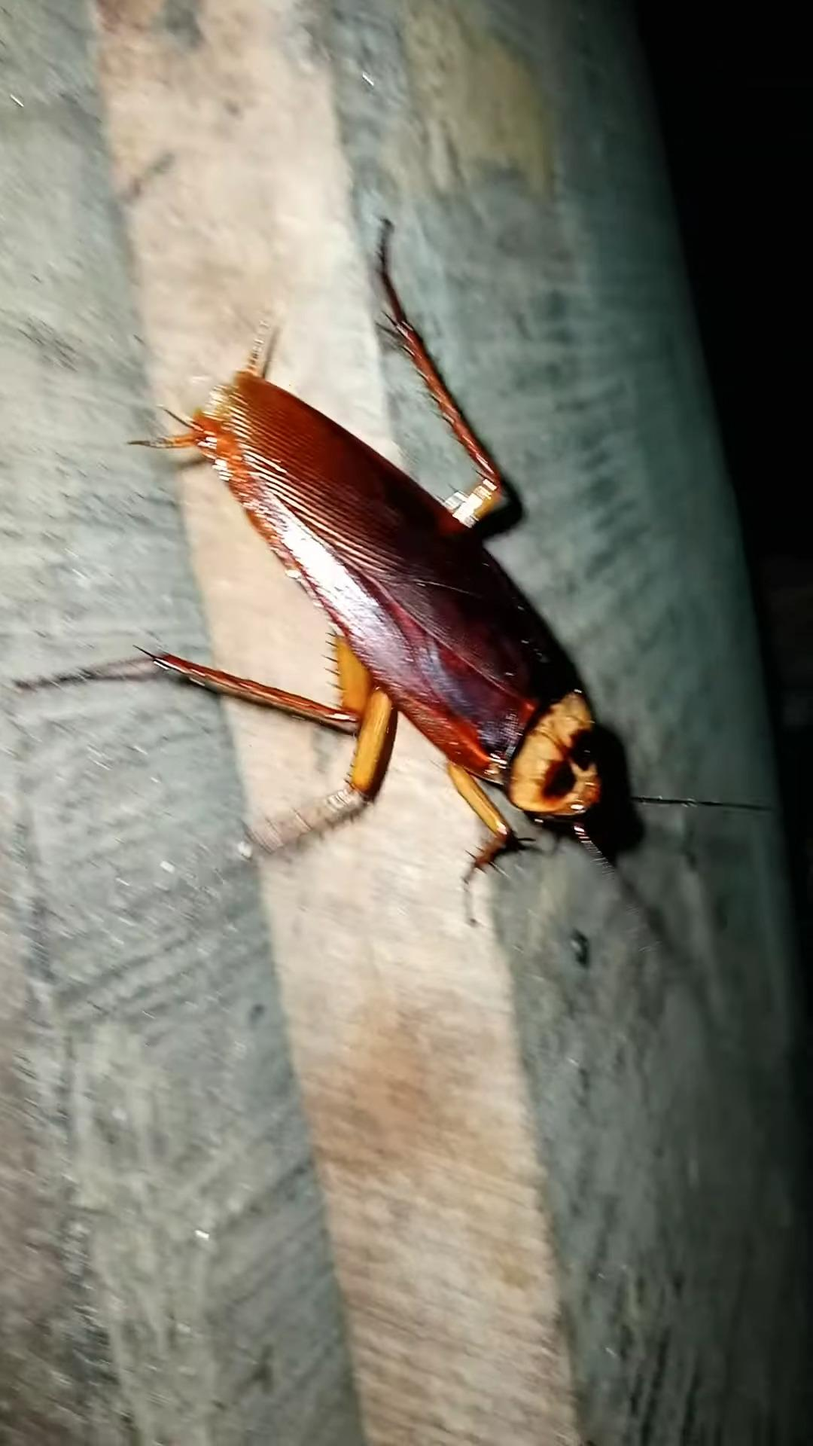cockroach: (0, 230, 756, 925)
